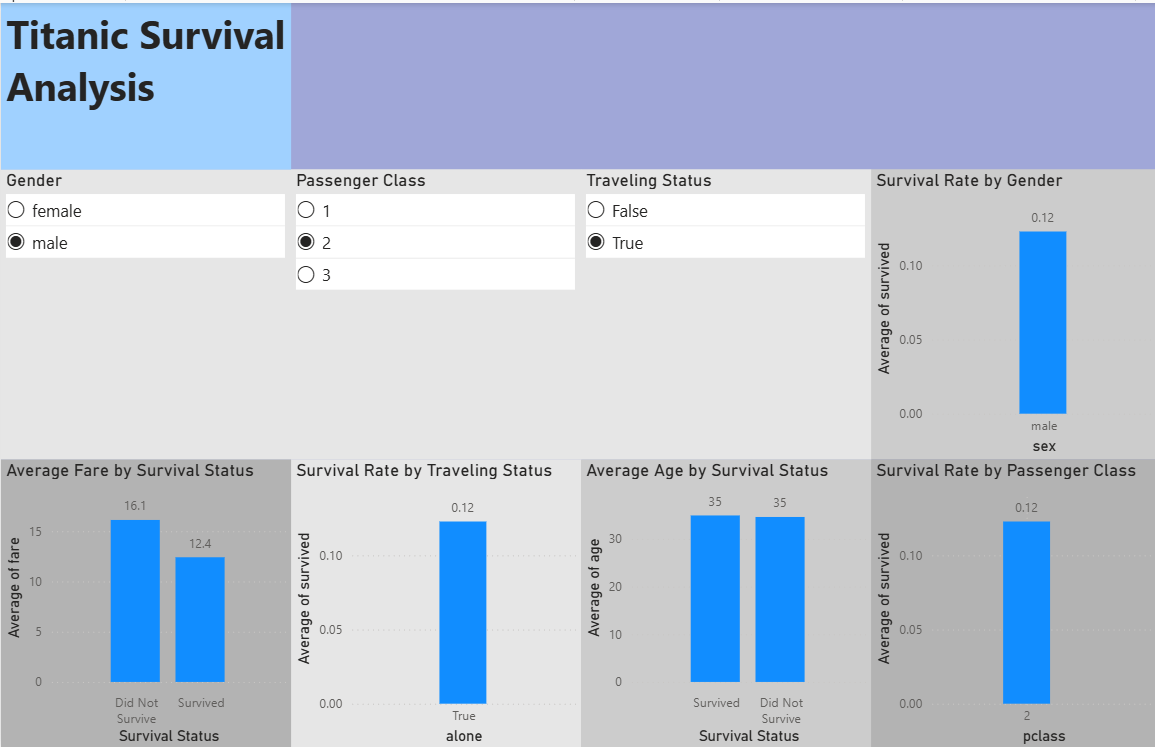

What the dashboard file says about the page in this screenshot:
{"tool":"powerbi","page":{"name":"Page 2","canvas":[1280,720],"ordinal":1},"visuals":[{"type":"clusteredColumnChart","title":"Survival Rate by Gender","fields":{"Category":["cleaned_titanic.sex"],"Y":["Avg(cleaned_titanic.survived)"]},"box":[839.8,160.5,279.9,279.9],"z":0},{"type":"clusteredColumnChart","title":"Survival Rate by Passenger Class","fields":{"Category":["cleaned_titanic.pclass"],"Y":["Avg(cleaned_titanic.survived)"]},"box":[839.8,440.5,279.9,279.9],"z":1000},{"type":"clusteredColumnChart","title":"Survival Rate by Traveling Status","fields":{"Category":["cleaned_titanic.alone"],"Y":["Avg(cleaned_titanic.survived)"]},"box":[279.9,440.5,279.9,279.9],"z":2000},{"type":"clusteredColumnChart","title":"Average Fare by Survival Status","fields":{"Y":["Avg(cleaned_titanic.fare)"],"Category":["cleaned_titanic.Survival Status"]},"box":[0,440.5,279.9,279.9],"z":3000},{"type":"clusteredColumnChart","title":"Average Age by Survival Status","fields":{"Y":["Avg(cleaned_titanic.age)"],"Category":["cleaned_titanic.Survival Status"]},"box":[559.9,440.5,279.9,279.9],"z":4000},{"type":"listSlicer","title":"Gender ","fields":{"Values":["cleaned_titanic.sex"]},"box":[0,160.5,279.9,279.9],"z":5000},{"type":"listSlicer","title":"Passenger Class","fields":{"Values":["cleaned_titanic.pclass"]},"box":[279.9,160.5,279.9,279.9],"z":6000},{"type":"listSlicer","title":"Traveling Status","fields":{"Values":["cleaned_titanic.alone"]},"box":[559.9,160.5,279.9,279.9],"z":7000},{"type":"textbox","box":[0,0,279.9,160.5],"z":7001}]}

Visuals, with their boxes on the page's 1280x720 design canvas (x1, y1, x2, y2). These are canvas units, not pixel positions in the 1155x747 screenshot, which may show the page scaled, cropped or inside an application window:
"Survival Rate by Gender" clusteredColumnChart: bbox=[840, 160, 1120, 440]
"Survival Rate by Passenger Class" clusteredColumnChart: bbox=[840, 440, 1120, 720]
"Survival Rate by Traveling Status" clusteredColumnChart: bbox=[280, 440, 560, 720]
"Average Fare by Survival Status" clusteredColumnChart: bbox=[0, 440, 280, 720]
"Average Age by Survival Status" clusteredColumnChart: bbox=[560, 440, 840, 720]
"Gender " listSlicer: bbox=[0, 160, 280, 440]
"Passenger Class" listSlicer: bbox=[280, 160, 560, 440]
"Traveling Status" listSlicer: bbox=[560, 160, 840, 440]
textbox: bbox=[0, 0, 280, 160]
